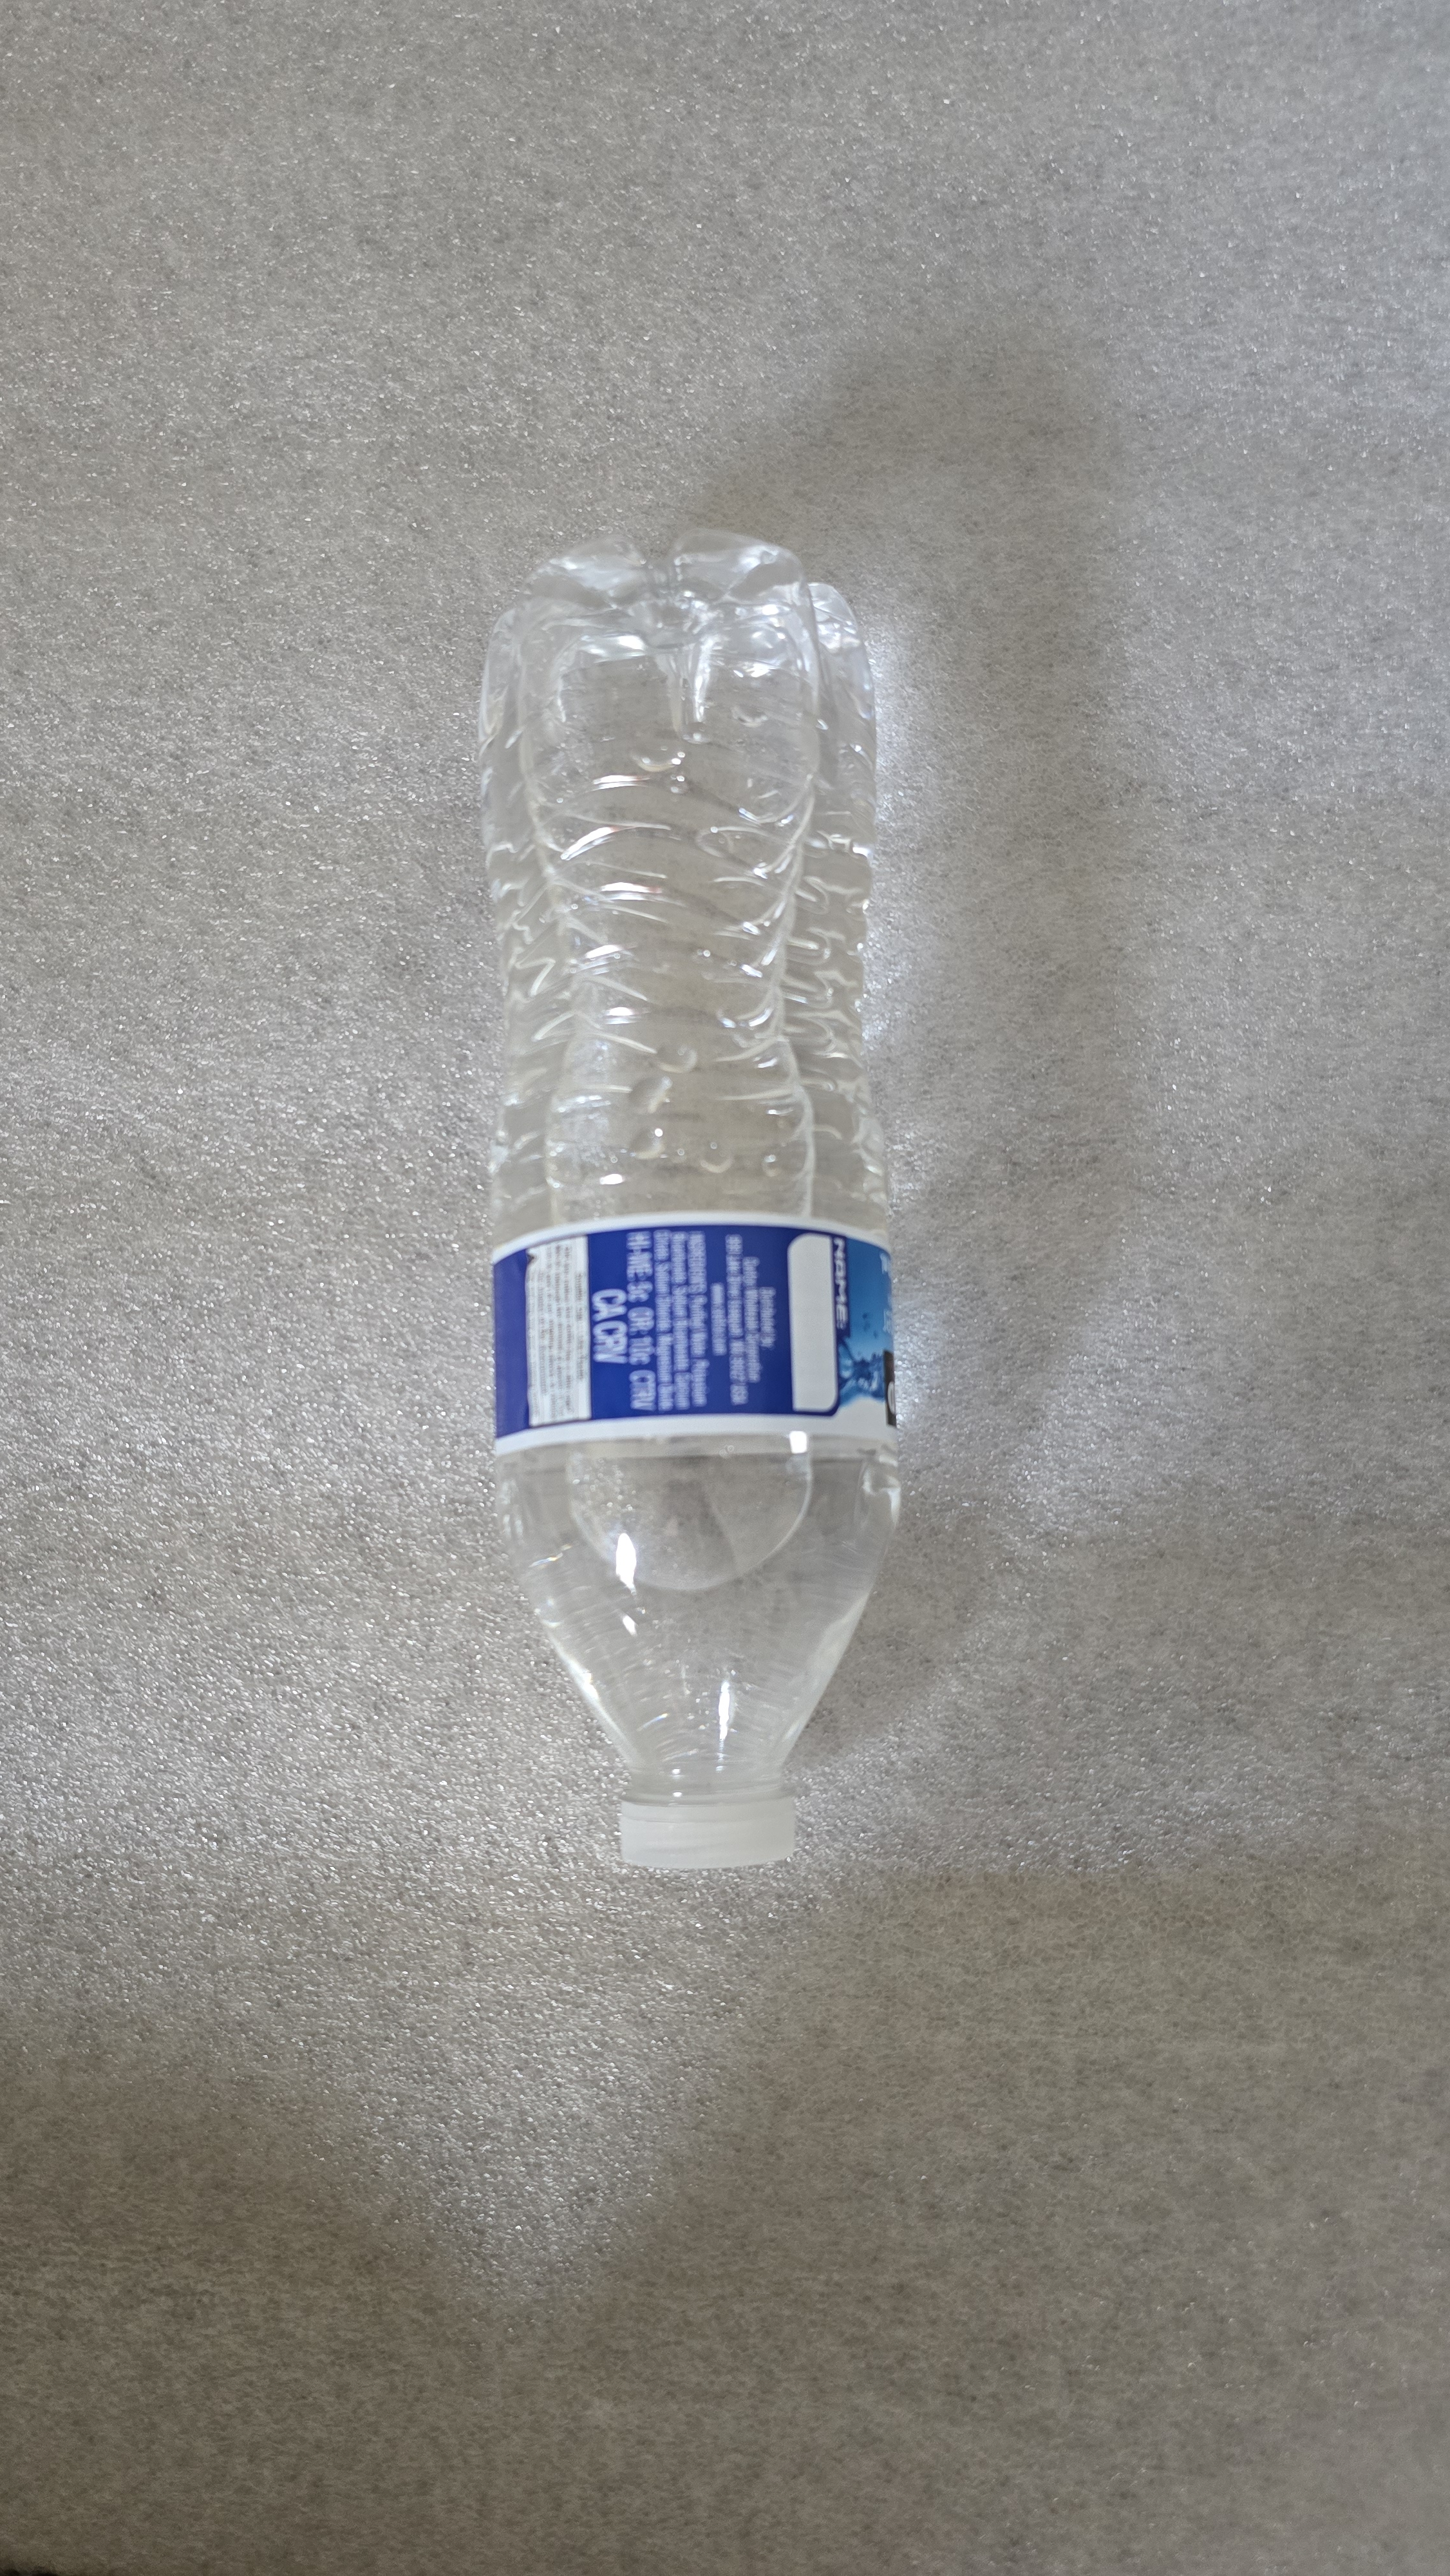bottle: (428, 442, 948, 1939)
